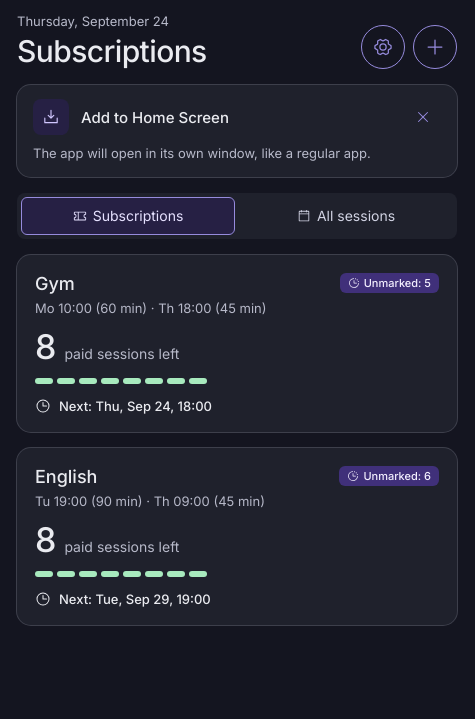
Scenario: Home › All sessions › shows every hobby of the selected day, sorted by time
The image size is (475, 719).
Click the button "All sessions" at {"x": 346, "y": 216}, box [239,197,453,235]
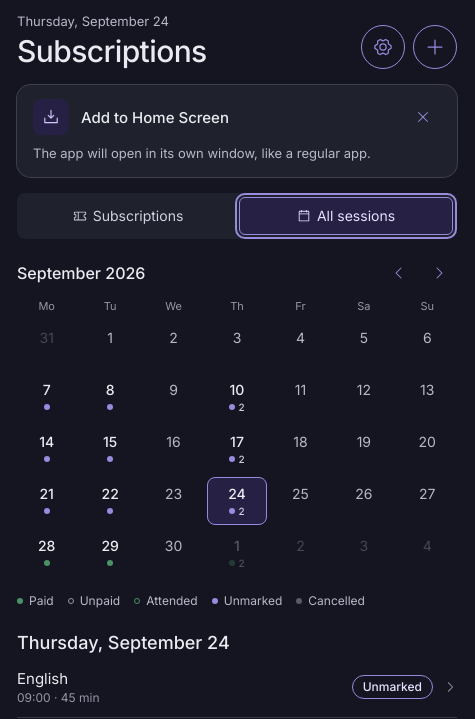
Check: the heading "September 2026" is shown, box [17,263,145,283]
Check: the heading "Thursday, September 24" is shown, box [17,632,230,653]
